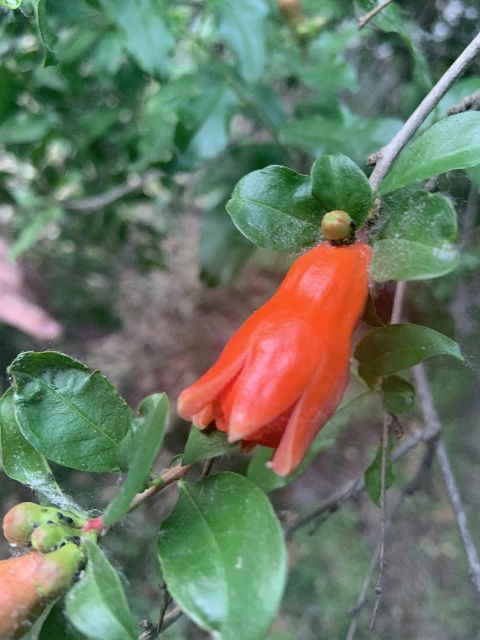bud: (1, 501, 80, 546), (29, 524, 79, 552), (321, 209, 354, 242)
flower: (175, 239, 373, 476)
